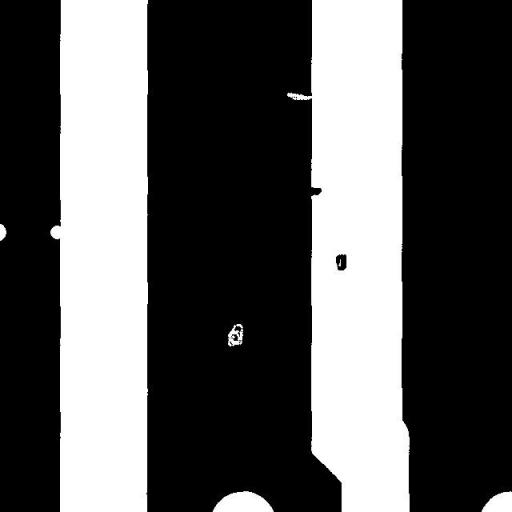copper: (328, 246, 354, 278)
mousebite: (279, 85, 321, 107), (42, 218, 72, 246)
pin-hole: (220, 316, 250, 354)
spur: (298, 179, 329, 203)
